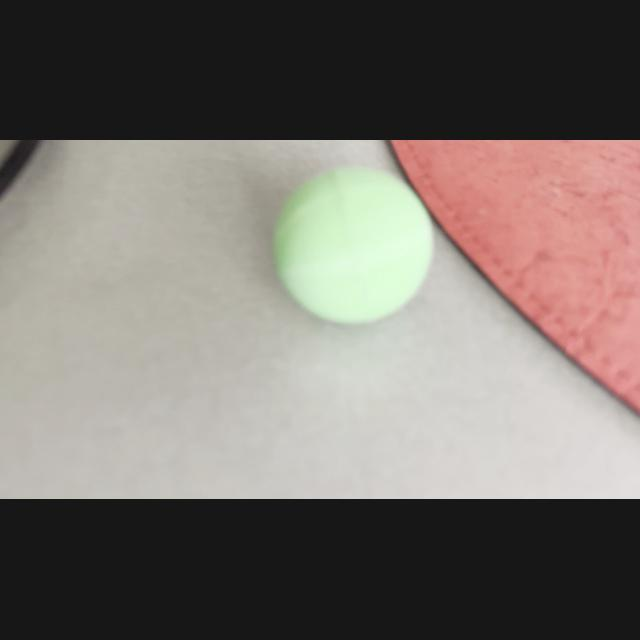objects: (263, 158, 445, 332)
